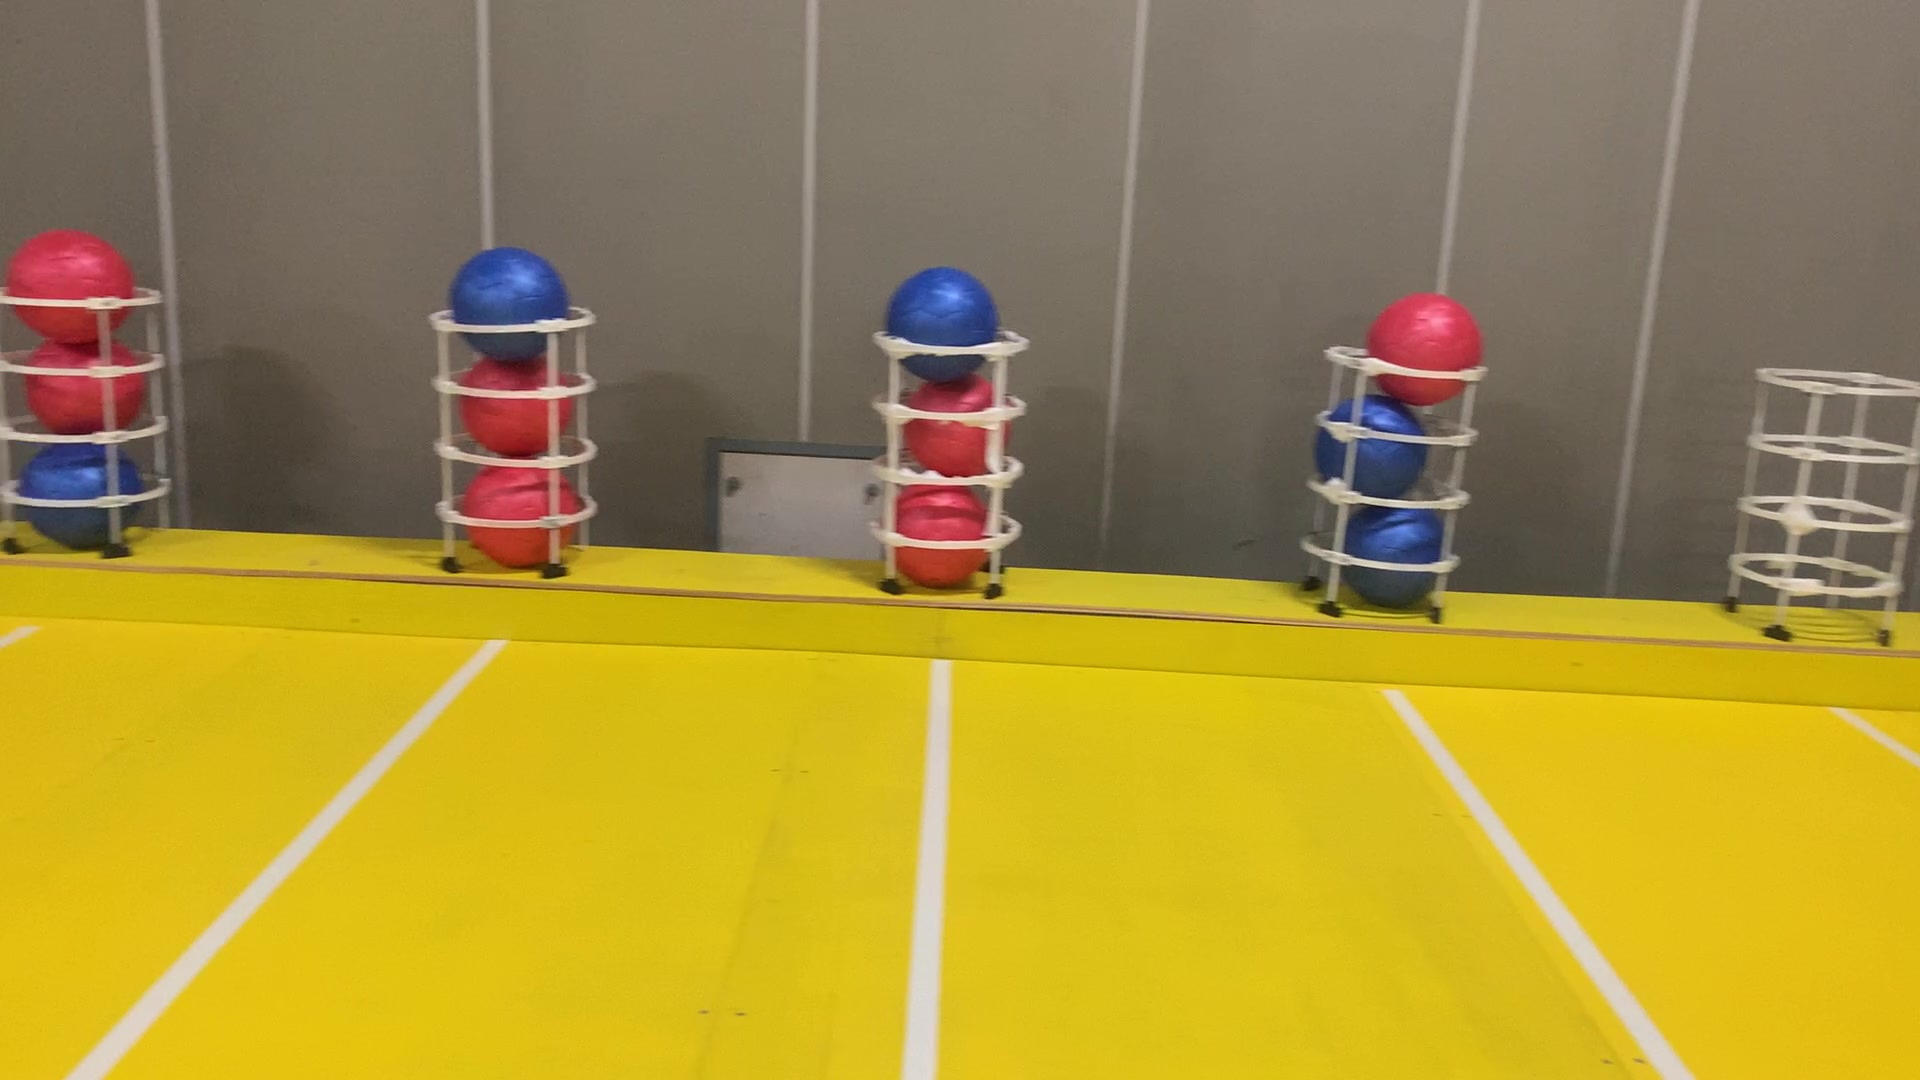blue: (439, 235, 580, 367), (873, 257, 1006, 380), (22, 430, 145, 553), (1308, 382, 1427, 508), (1342, 496, 1453, 621)
red: (4, 219, 137, 348), (459, 451, 584, 578), (1361, 289, 1487, 407), (452, 343, 578, 462), (16, 319, 138, 439), (881, 471, 1004, 589), (897, 367, 1014, 484)
